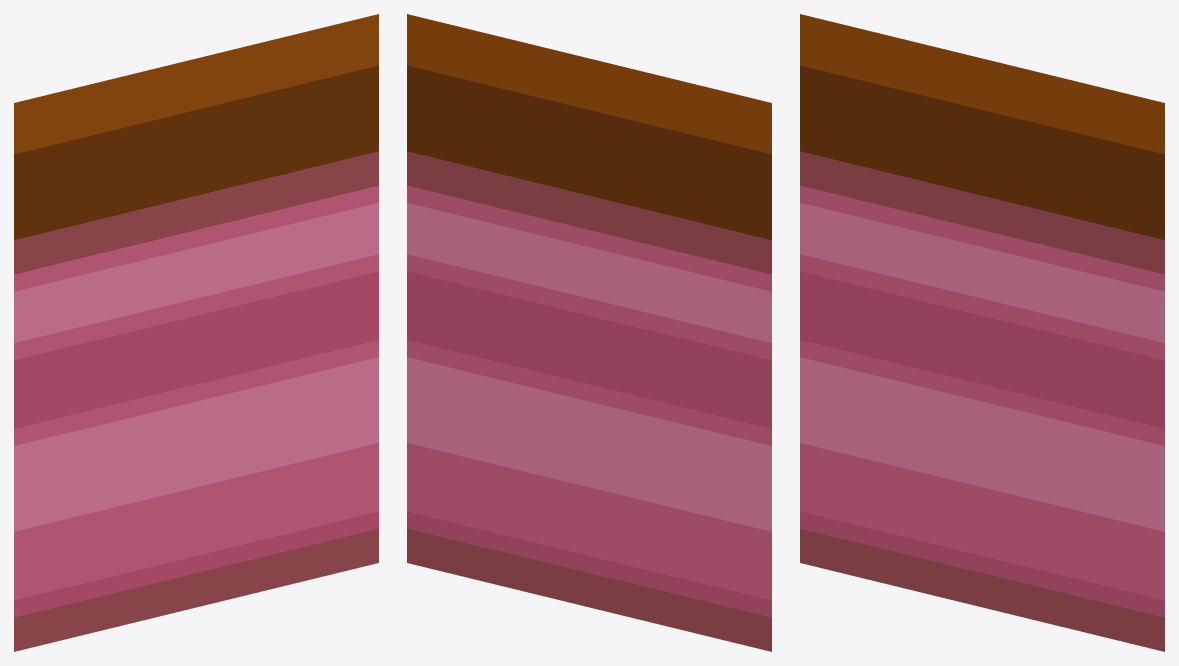
The picture shows the model from 3 angles, left to right: view 1: azimuth 30°, elevation 25°; view 2: azimuth 150°, elevation 25°; view 3: azimuth 330°, elevation 25°; orthographic projection.
Size of the model in its own units: 1 by 1.44 by 0.
Materials: 1 (1 with a texture image).
